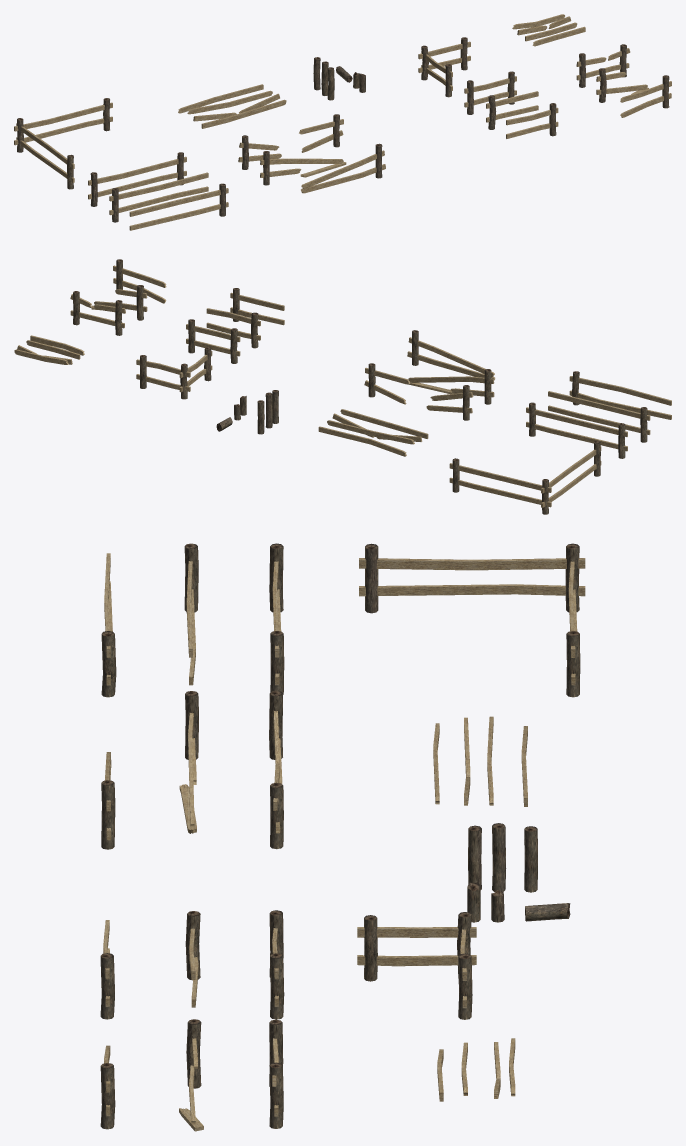
The model's file is wooden_fence_without_proxy.obj.
3 views of the same model, one above another, from view 1: azimuth 30°, elevation 25°; view 2: azimuth 150°, elevation 25°; view 3: azimuth 270°, elevation 25° (orthographic). The views are drawn at different scales.
Visible parts, largest first — view 1: wooden_fence_large_corner, wooden_fence_large_2poles, wooden_fence_large_1pole_L, wooden_fence_small_corner, wooden_fence_large_1pole_R, wooden_fence_large_broken_2poles, wooden_fence_large_broken_1poleR, wooden_fence_large_broken_1poleL, wooden_fence_small_2poles, wooden_fence_small_broken_2poles, wooden_fence_small_1pole_L, wooden_fence_small_1pole_R (+6 smaller); view 2: wooden_fence_large_corner, wooden_fence_large_2poles, wooden_fence_small_corner, wooden_fence_large_1pole_L, wooden_fence_large_broken_2poles, wooden_fence_large_1pole_R, wooden_fence_large_broken_1poleR, wooden_fence_large_broken_1poleL, wooden_fence_small_2poles, wooden_fence_small_broken_2poles, wooden_fence_small_1pole_L, wooden_fence_small_broken_1poleR (+5 smaller); view 3: wooden_fence_large_corner, wooden_fence_small_corner, wooden_fence_large_broken_2poles, wooden_fence_large_2poles, wooden_fence_large_broken_1poleL, wooden_fence_small_2poles, wooden_fence_small_broken_2poles, wooden_fence_large_1pole_L, wooden_fence_large_1pole_R, wooden_fence_small_broken_1poleL, wooden_fence_large_broken_1poleR, wooden_fence_small_1pole_L (+4 smaller).
Boxes of the visible parts, <box> form: wooden_fence_large_corner: <box>14,98,112,189</box>; wooden_fence_large_2poles: <box>88,152,186,206</box>; wooden_fence_large_1pole_L: <box>109,172,208,222</box>; wooden_fence_small_corner: <box>418,37,470,97</box>; wooden_fence_large_1pole_R: <box>129,183,228,230</box>; wooden_fence_large_broken_2poles: <box>238,114,343,169</box>; wooden_fence_large_broken_1poleR: <box>301,143,385,193</box>; wooden_fence_large_broken_1poleL: <box>260,151,346,185</box>; wooden_fence_small_2poles: <box>464,71,516,114</box>; wooden_fence_small_broken_2poles: <box>576,44,630,87</box>; wooden_fence_small_1pole_L: <box>486,91,538,129</box>; wooden_fence_small_1pole_R: <box>506,103,558,138</box>; wooden_fence_large_corner: <box>449,441,601,514</box>; wooden_fence_large_2poles: <box>526,402,627,458</box>; wooden_fence_small_corner: <box>136,347,212,399</box>; wooden_fence_large_1pole_L: <box>548,391,650,442</box>; wooden_fence_large_broken_2poles: <box>364,363,473,420</box>; wooden_fence_large_1pole_R: <box>569,371,671,419</box>; wooden_fence_large_broken_1poleR: <box>407,330,495,380</box>; wooden_fence_large_broken_1poleL: <box>408,369,494,404</box>; wooden_fence_small_2poles: <box>186,319,240,363</box>; wooden_fence_small_broken_2poles: <box>70,291,125,335</box>; wooden_fence_small_1pole_L: <box>206,308,260,348</box>; wooden_fence_small_broken_1poleR: <box>113,259,166,303</box>; wooden_fence_large_corner: <box>359,543,585,697</box>; wooden_fence_small_corner: <box>357,912,476,1019</box>; wooden_fence_large_broken_2poles: <box>269,690,283,849</box>; wooden_fence_large_2poles: <box>269,543,284,694</box>; wooden_fence_large_broken_1poleL: <box>179,691,198,833</box>; wooden_fence_small_2poles: <box>269,910,284,1019</box>; wooden_fence_small_broken_2poles: <box>269,1019,283,1128</box>; wooden_fence_large_1pole_L: <box>184,543,198,685</box>; wooden_fence_large_1pole_R: <box>101,553,116,697</box>; wooden_fence_small_broken_1poleL: <box>179,1019,203,1131</box>; wooden_fence_large_broken_1poleR: <box>101,752,115,849</box>; wooden_fence_small_1pole_L: <box>185,911,200,1007</box>.
Bounding box in the file's own units: 2660 × 152 × 1032.
